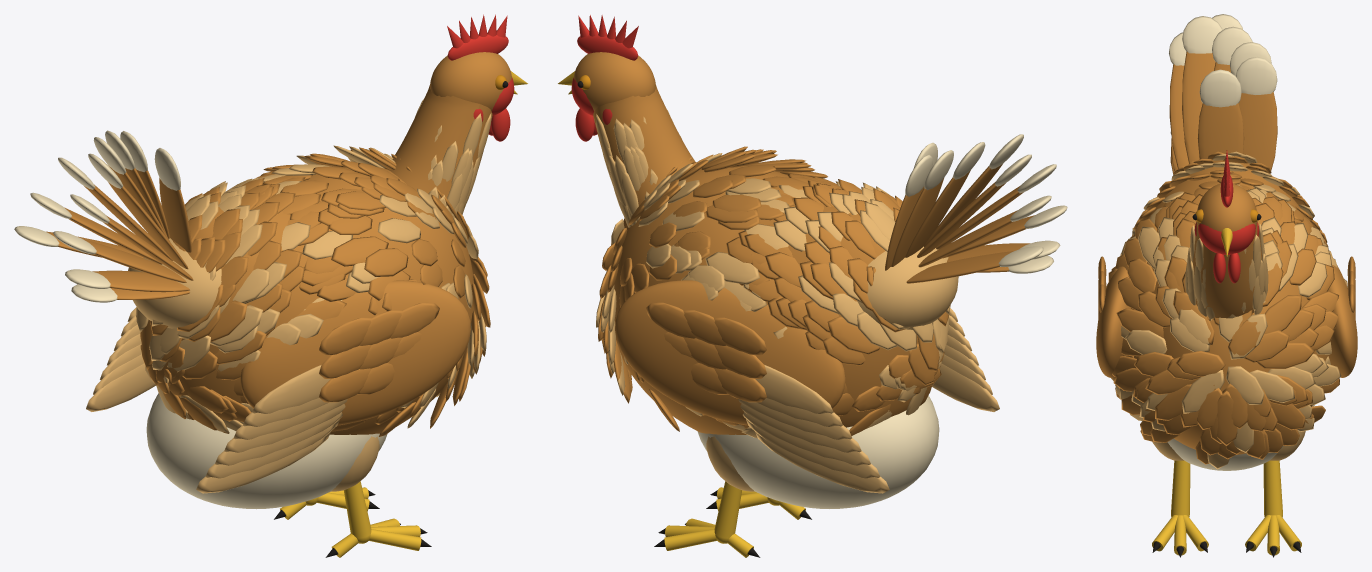
Rendered from ayam_betina_petelur.glb.
3 views of the same model, side by side, from view 1: azimuth 30°, elevation 25°; view 2: azimuth 150°, elevation 25°; view 3: azimuth 270°, elevation 25° (orthographic). The views are drawn at different scales.
Parts seen in each view (by area): view 1: body_feathers_gold, body_feathers_light, wing_R, belly_fluff, tail_feathers, wing_primaries_R, body, wing_coverts_R, tail_tips, neck, wing_primaries_L, head (+6 smaller); view 2: body_feathers_gold, body_feathers_light, wing_L, belly_fluff, tail_feathers, wing_primaries_L, body, wing_coverts_L, tail_tips, tail_saddle, neck, neck_hackles (+6 smaller); view 3: body_feathers_gold, body_feathers_light, tail_feathers, tail_tips, body, neck, neck_hackles, wing_R, wing_L, head, belly_fluff, face (+12 smaller).
Part boxes in pixels (x1=…): body_feathers_gold: x1=140, y1=146, x2=490, y2=436; body_feathers_light: x1=136, y1=145, x2=486, y2=432; wing_R: x1=240, y1=280, x2=470, y2=425; belly_fluff: x1=146, y1=393, x2=387, y2=509; tail_feathers: x1=46, y1=165, x2=193, y2=299; wing_primaries_R: x1=196, y1=365, x2=347, y2=493; body: x1=179, y1=166, x2=473, y2=434; wing_coverts_R: x1=319, y1=302, x2=439, y2=402; tail_tips: x1=14, y1=130, x2=180, y2=302; neck: x1=385, y1=85, x2=492, y2=199; wing_primaries_L: x1=86, y1=307, x2=155, y2=411; head: x1=430, y1=52, x2=511, y2=111; body_feathers_gold: x1=598, y1=146, x2=948, y2=435; body_feathers_light: x1=596, y1=150, x2=950, y2=438; wing_L: x1=615, y1=280, x2=845, y2=425; belly_fluff: x1=697, y1=395, x2=939, y2=508; tail_feathers: x1=885, y1=163, x2=1034, y2=283; wing_primaries_L: x1=738, y1=365, x2=889, y2=493; body: x1=614, y1=165, x2=918, y2=434; wing_coverts_L: x1=646, y1=302, x2=766, y2=402; tail_tips: x1=905, y1=134, x2=1067, y2=273; tail_saddle: x1=857, y1=246, x2=958, y2=329; neck: x1=593, y1=84, x2=695, y2=218; neck_hackles: x1=594, y1=110, x2=681, y2=227; body_feathers_gold: x1=1106, y1=151, x2=1339, y2=464; body_feathers_light: x1=1111, y1=151, x2=1347, y2=469; tail_feathers: x1=1169, y1=51, x2=1277, y2=174; tail_tips: x1=1169, y1=14, x2=1277, y2=135; body: x1=1131, y1=160, x2=1327, y2=454; neck: x1=1192, y1=221, x2=1262, y2=319; neck_hackles: x1=1185, y1=224, x2=1268, y2=320; wing_R: x1=1096, y1=266, x2=1130, y2=377; wing_L: x1=1327, y1=265, x2=1357, y2=377; head: x1=1196, y1=183, x2=1257, y2=231; belly_fluff: x1=1167, y1=405, x2=1314, y2=470; face: x1=1198, y1=223, x2=1255, y2=254.
Size of the model in its own units: 0.4878 by 0.4537 by 0.2473.
